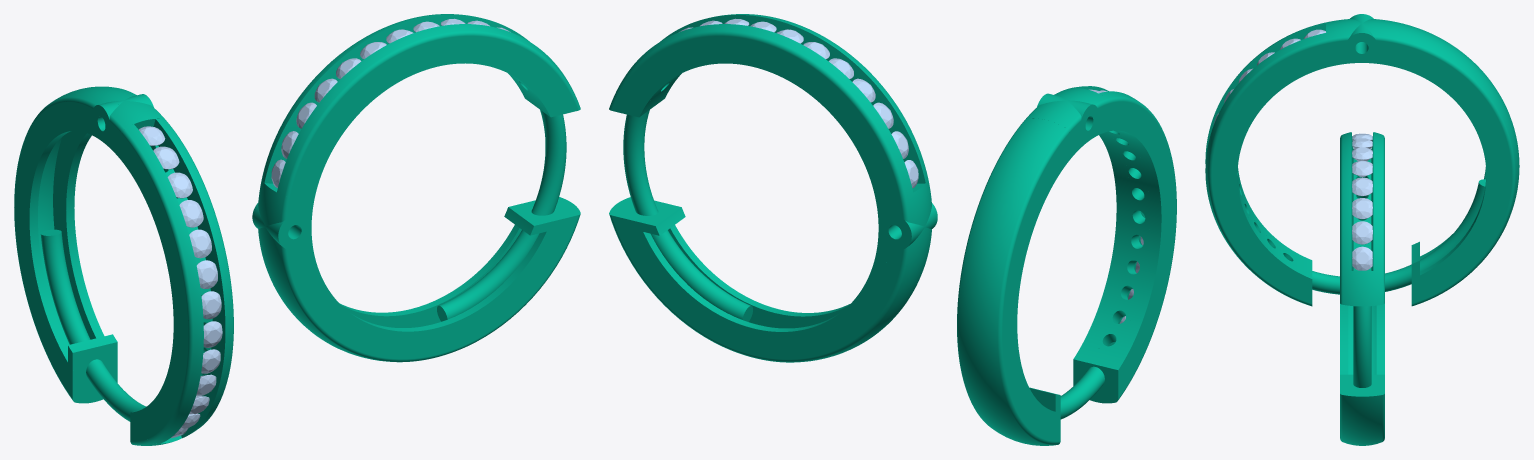
3 views of the same model, side by side, from view 1: azimuth 30°, elevation 25°; view 2: azimuth 150°, elevation 25°; view 3: azimuth 270°, elevation 25° (orthographic). The views are drawn at different scales.
Parts seen in each view (by area): view 1: VEAR715.3dm; view 2: VEAR715.3dm; view 3: VEAR715.3dm, Diamond_Round (×4).
Boxes of the visible parts, bbox=[...] form: VEAR715.3dm: bbox=[14, 14, 580, 445]; VEAR715.3dm: bbox=[609, 14, 1176, 445]; VEAR715.3dm: bbox=[1205, 14, 1519, 445]; Diamond_Round (×4): bbox=[1352, 177, 1372, 270].
Bounding box in the file's own units: 2.91 × 1.94 × 1.94.
